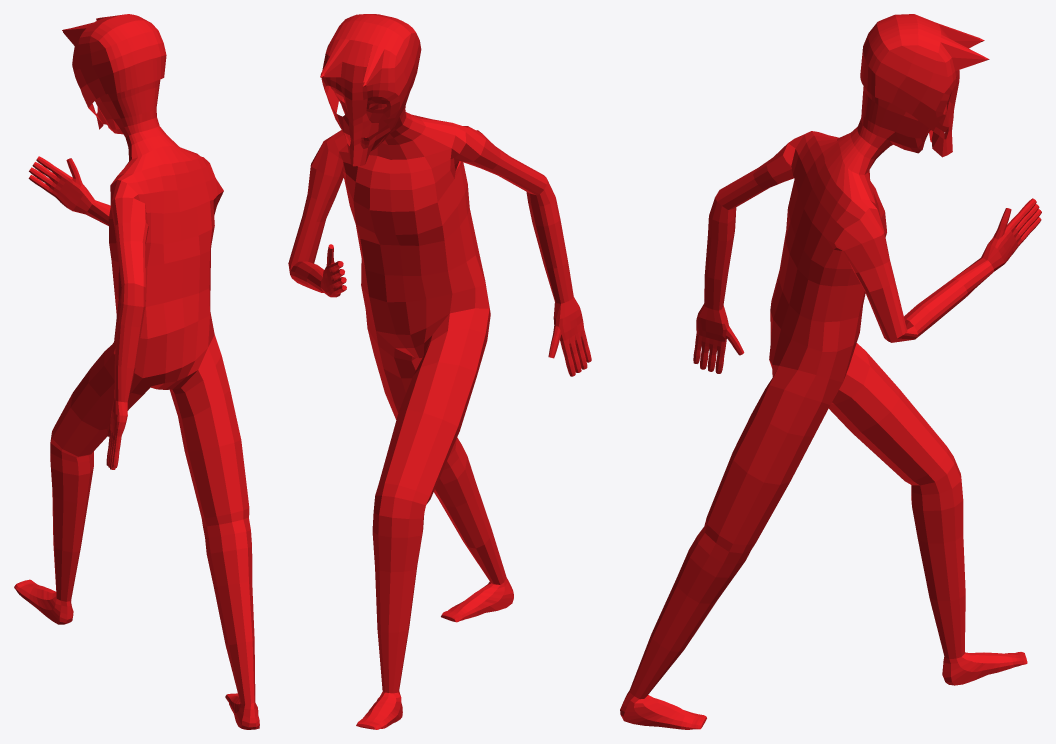
Rendered from marchaE_000038.obj.
3 renders of one model, left to right at view 1: azimuth 30°, elevation 25°; view 2: azimuth 150°, elevation 25°; view 3: azimuth 270°, elevation 25°, orthographic. The views are drawn at different scales.
Visible parts, largest first — view 1: Plane.002_Plane.001; view 2: Plane.002_Plane.001; view 3: Plane.002_Plane.001.
Boxes of the visible parts, x1,y1,x2,y2 form: Plane.002_Plane.001: (14,14,259,729); Plane.002_Plane.001: (288,14,591,729); Plane.002_Plane.001: (620,14,1041,729).
Bounding box in the file's own units: 2.04 × 6.63 × 3.64.
